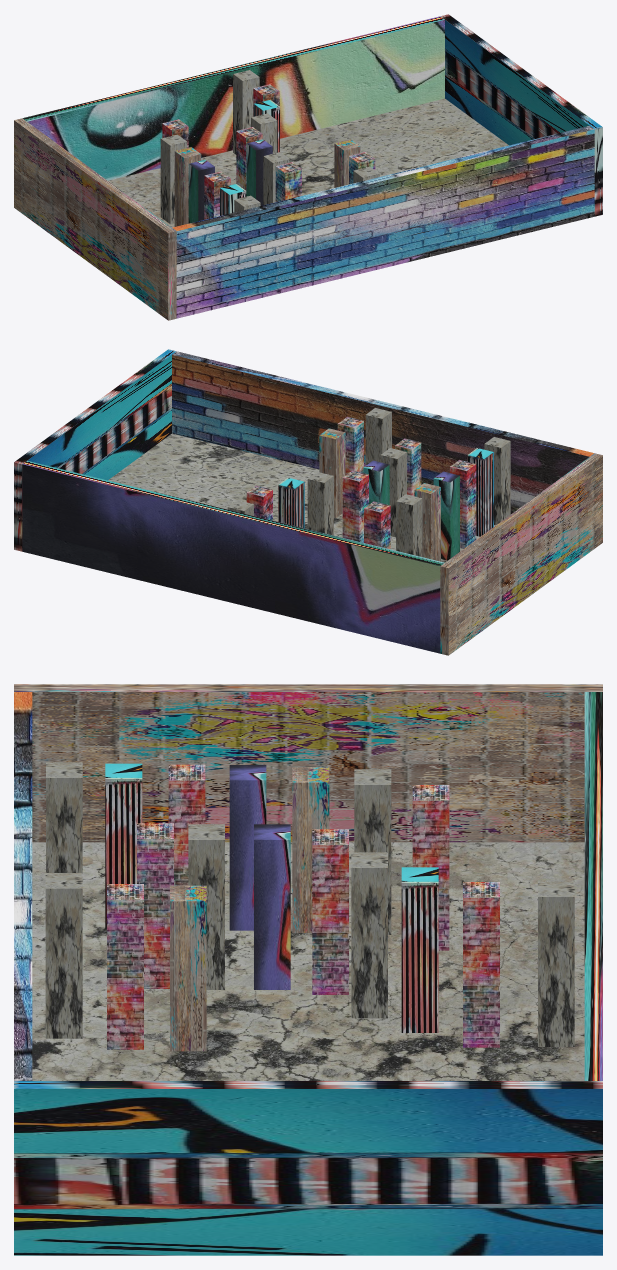
Rendered from arena_v6.dae.
The picture shows the model from 3 angles, top to bottom: view 1: azimuth 30°, elevation 25°; view 2: azimuth 150°, elevation 25°; view 3: azimuth 270°, elevation 25°; orthographic projection. The views are drawn at different scales.
Visible parts, largest first — view 1: Wall2, Wall1, Wall4, Floor, Wall3, Cube.020, Cube.010, Cube.011, Cube.018, Cube.009, Cube.002, Cube.013 (+9 smaller); view 2: Wall1, Wall2, Wall4, Wall3, Floor, Cube.009, Cube.019, Cube.014, Cube.008, Cube.017, Cube.020, Cube.013 (+10 smaller); view 3: Wall3, Wall4, Floor, Wall2, Wall1, Cube.012, Cube.005, Cube.017, Cube.008, Cube.019, Cube.018, Cube.016 (+11 smaller).
Part boxes in pixels (x1,y1,x2,y2): Wall2: [172, 126, 594, 318]; Wall1: [22, 16, 444, 180]; Wall4: [14, 118, 176, 320]; Floor: [108, 98, 508, 227]; Wall3: [440, 14, 602, 216]; Cube.020: [160, 134, 187, 224]; Cube.010: [233, 70, 259, 154]; Cube.011: [174, 147, 201, 226]; Cube.018: [246, 139, 272, 205]; Cube.009: [188, 159, 214, 223]; Cube.002: [275, 162, 301, 202]; Cube.013: [204, 171, 230, 219]; Wall1: [22, 461, 444, 653]; Wall2: [172, 351, 594, 514]; Wall4: [440, 453, 602, 655]; Wall3: [14, 349, 176, 551]; Floor: [108, 433, 495, 562]; Cube.009: [433, 471, 459, 560]; Cube.019: [342, 470, 368, 542]; Cube.014: [467, 448, 493, 536]; Cube.008: [307, 472, 333, 535]; Cube.017: [319, 428, 345, 517]; Cube.020: [396, 494, 422, 556]; Cube.013: [450, 460, 476, 548]; Wall3: [14, 1081, 602, 1255]; Wall4: [14, 684, 602, 842]; Floor: [32, 842, 584, 1080]; Wall2: [14, 692, 32, 1080]; Wall1: [584, 692, 602, 1080]; Cube.012: [45, 873, 82, 1038]; Cube.005: [401, 867, 438, 1032]; Cube.017: [170, 885, 206, 1051]; Cube.008: [351, 852, 387, 1018]; Cube.019: [312, 829, 348, 994]; Cube.018: [254, 824, 290, 989]; Cube.016: [107, 884, 143, 1049].
Size of the model in its own units: 26 by 16 by 5.
7 materials, 7 textured.
